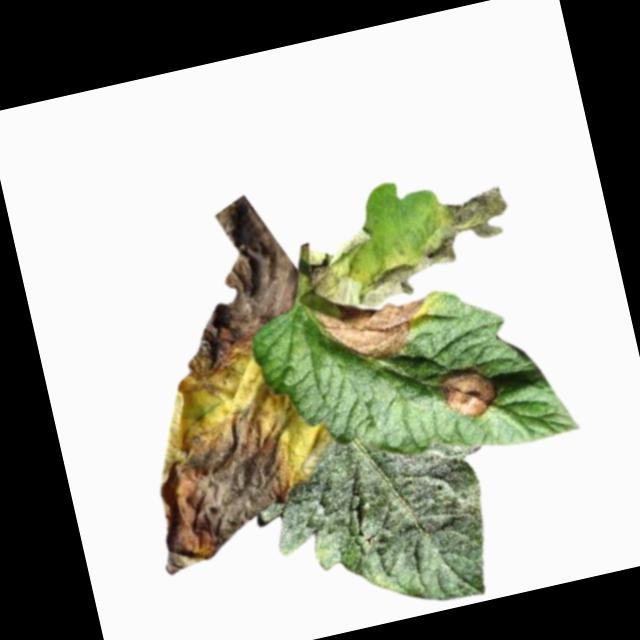Late_blight: (124, 393, 321, 579), (145, 186, 318, 383), (296, 182, 523, 319), (305, 288, 435, 375), (431, 360, 501, 424)
